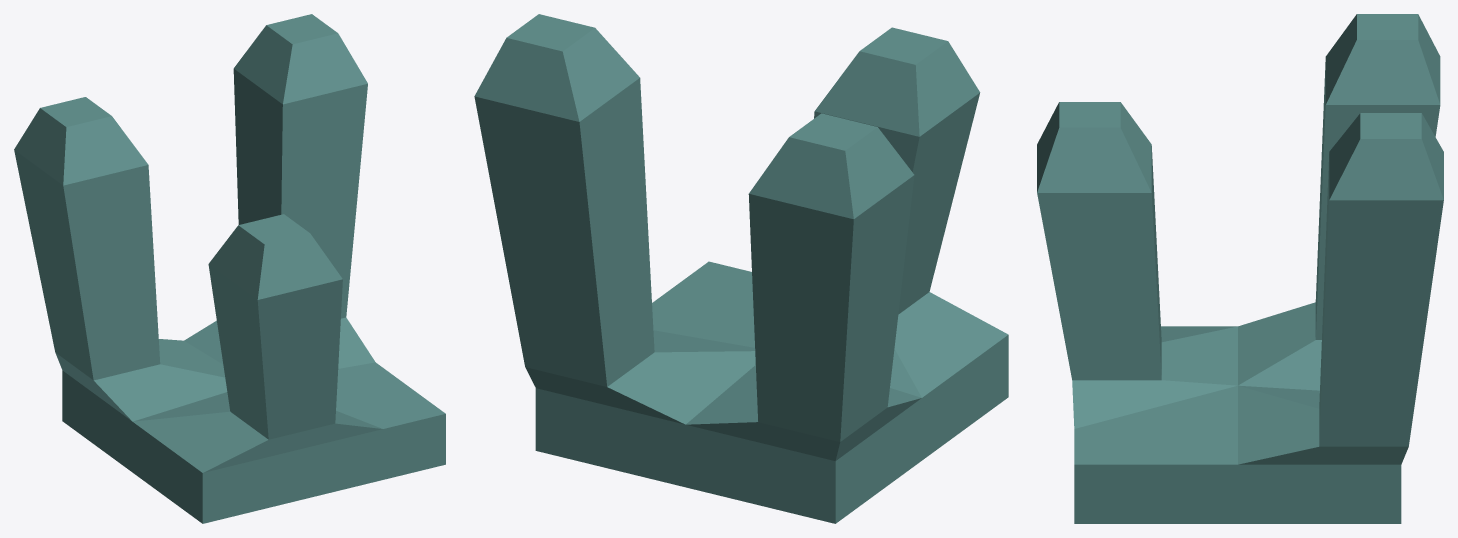
Rendered from resource__grass__no-border-dark.fbx.
The picture shows the model from 3 angles, left to right: view 1: azimuth 30°, elevation 25°; view 2: azimuth 150°, elevation 25°; view 3: azimuth 270°, elevation 25°; orthographic projection. The views are drawn at different scales.
Parts seen in each view (by area): view 1: Grass_No_Border_Dark; view 2: Grass_No_Border_Dark; view 3: Grass_No_Border_Dark.
Boxes of the visible parts, x1=… form: Grass_No_Border_Dark: x1=14, y1=14, x2=445, y2=523; Grass_No_Border_Dark: x1=474, y1=14, x2=1008, y2=523; Grass_No_Border_Dark: x1=1037, y1=14, x2=1443, y2=523.
Size of the model in its own units: 20.77 by 21.88 by 20.5.
